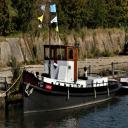tugboat: (20, 41, 124, 118)
